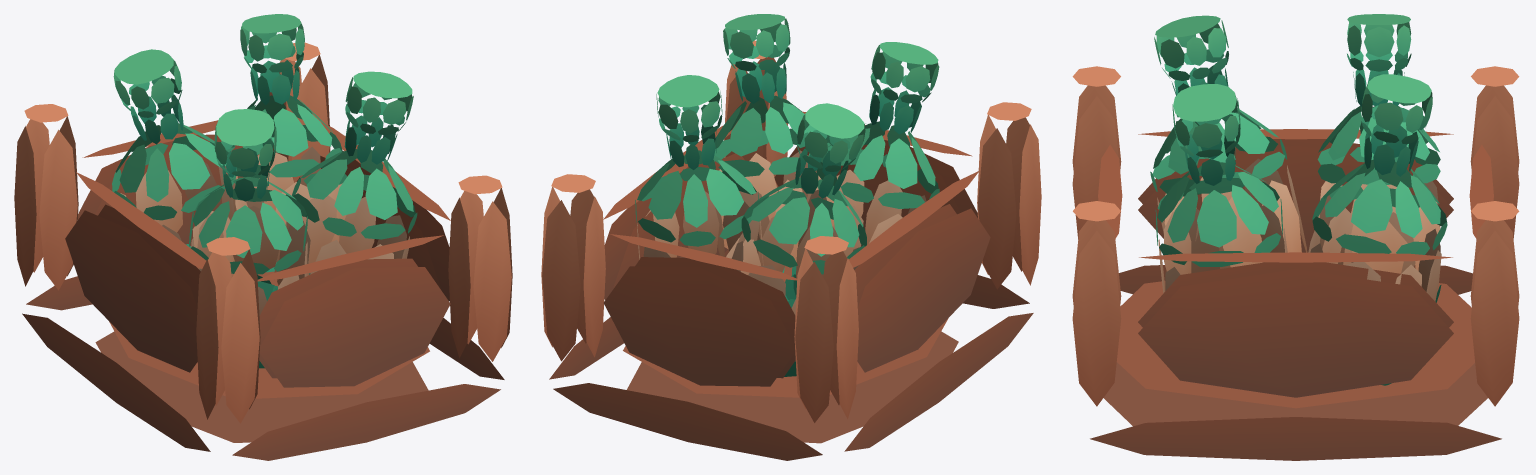
The model's file is crate-bottles.glb.
3 renders of one model, left to right at view 1: azimuth 30°, elevation 25°; view 2: azimuth 150°, elevation 25°; view 3: azimuth 270°, elevation 25°, orthographic. The views are drawn at different scales.
Visible parts, largest first — view 1: crate-bottles; view 2: crate-bottles; view 3: crate-bottles.
Part boxes in pixels (left/top/right/bottom): crate-bottles: left=14, top=14, right=512, bottom=460; crate-bottles: left=541, top=14, right=1041, bottom=460; crate-bottles: left=1072, top=14, right=1519, bottom=460.
Bounding box in the file's own units: 1.08 × 1.05 × 1.31.
1 material, 1 textured.
